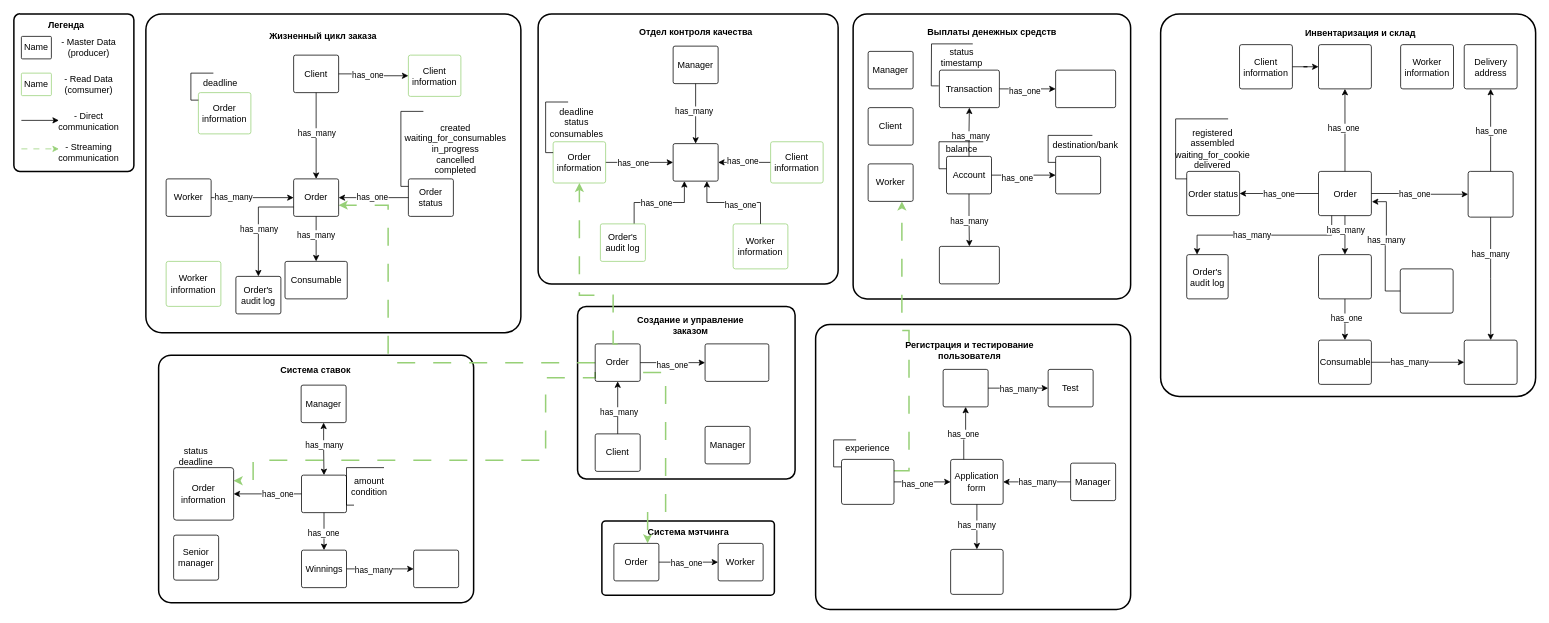
Some shapes in this 1549 by 623 pixel diagram are drawn without their labels. Here are the shapes that lost their labels. From the top down, the centre of each, then its label:
At point 1344,66: "Cookie".
At point 1085,88: "payment".
At point 695,162: "Order report".
At point 1078,175: "Account settings".
At point 1490,194: "Delivery box".
At point 969,265: "Invoice".
At point 1344,276: "Item".
At point 1426,290: "Employee (warehouse)".
At point 736,362: "Order type".
At point 1490,361: "Consumable warehouse position".
At point 965,388: "Test Suite".
At point 323,493: "Bet".
At point 867,481: "Worker (candidate)".
At point 436,568: "Winner".
At point 976,571: "Application form's audit log".
